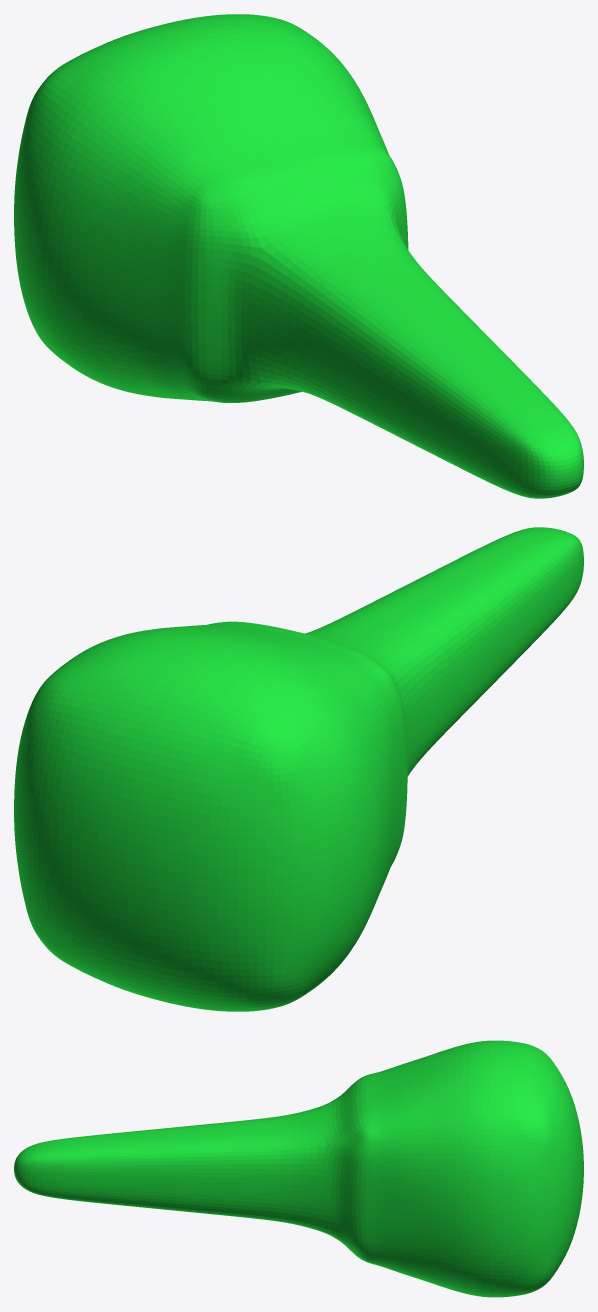
Rendered from Tiro_jogoadorV4.gltf.
3 renders of one model, top to bottom at view 1: azimuth 30°, elevation 25°; view 2: azimuth 150°, elevation 25°; view 3: azimuth 270°, elevation 25°, orthographic. The views are drawn at different scales.
Visible parts, largest first — view 1: Cubo; view 2: Cubo; view 3: Cubo.
Boxes of the visible parts, x1,y1,x2,y2 form: Cubo: (14,14,583,498); Cubo: (14,527,583,1011); Cubo: (14,1040,583,1297).
Bounding box in the file's own units: 2.21 × 2.21 × 5.18.
